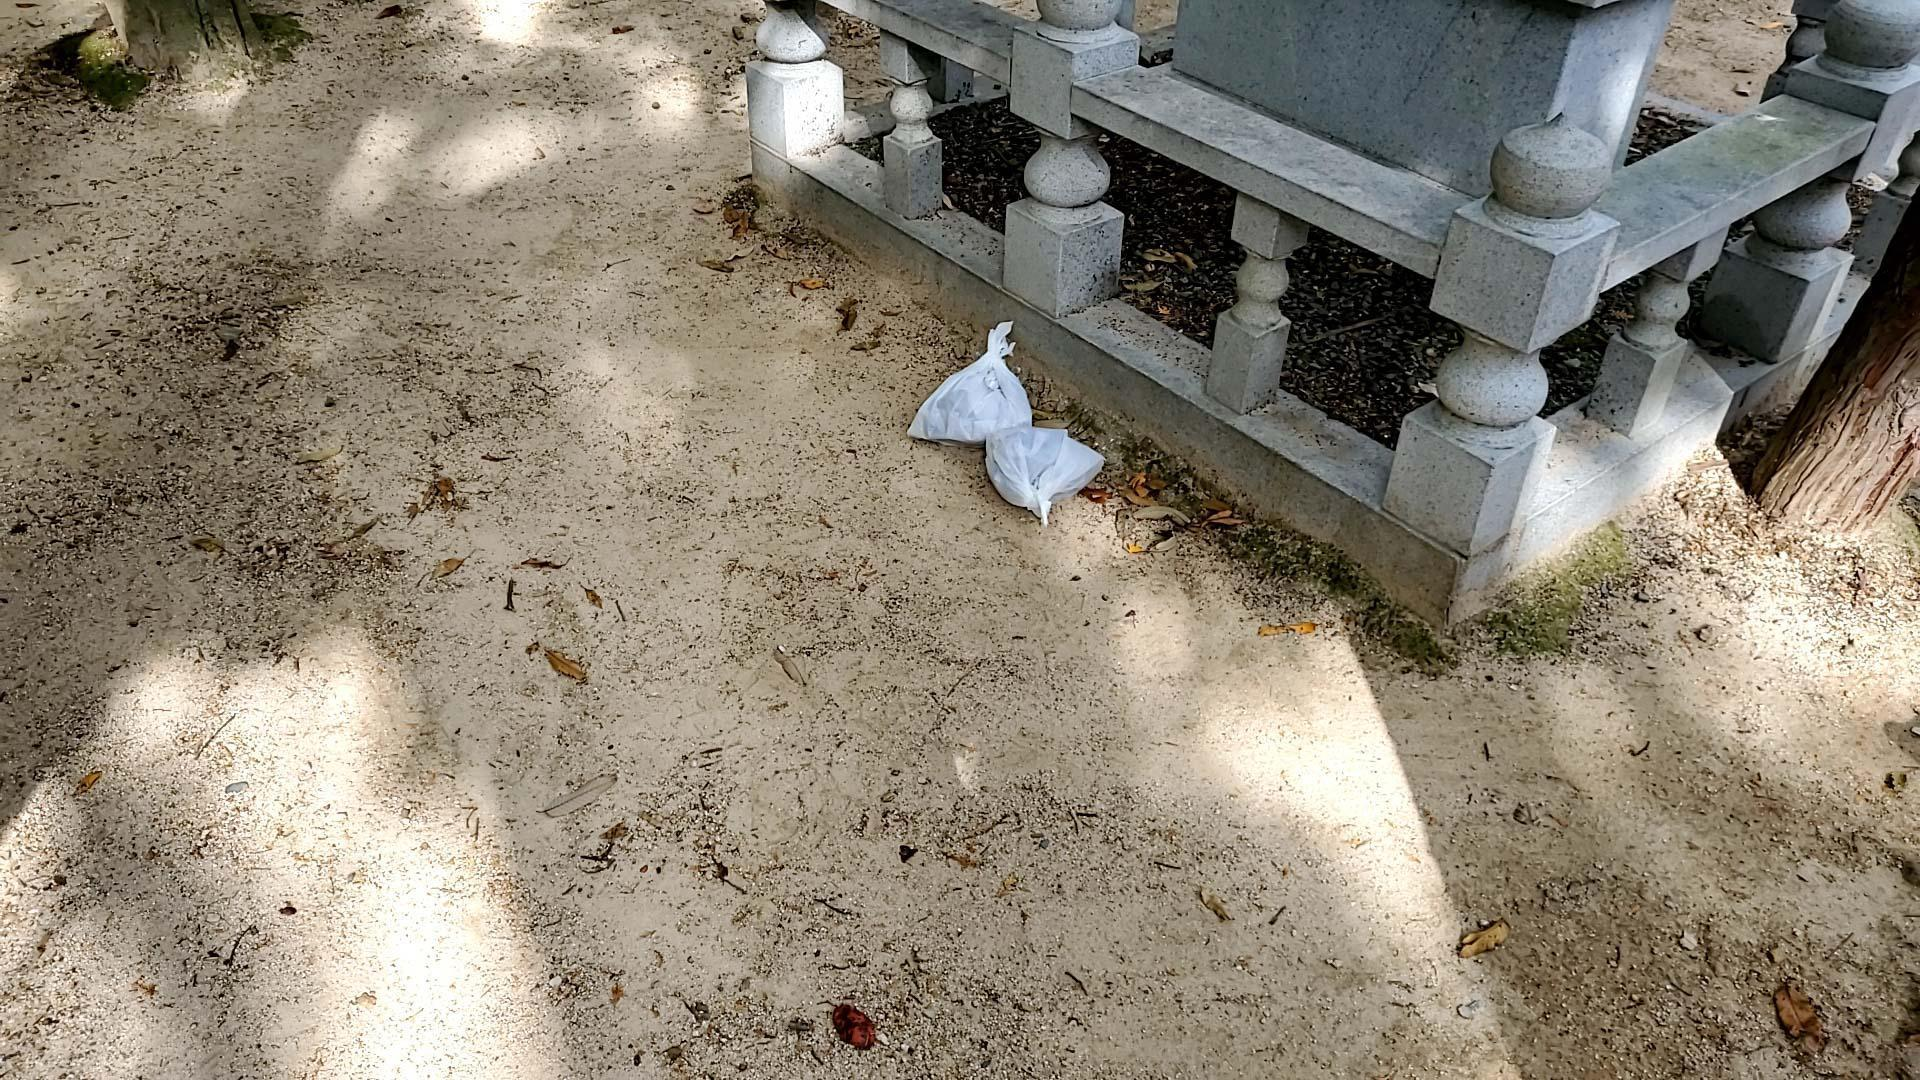white_bag: (895, 313, 1038, 448), (971, 415, 1102, 535)
